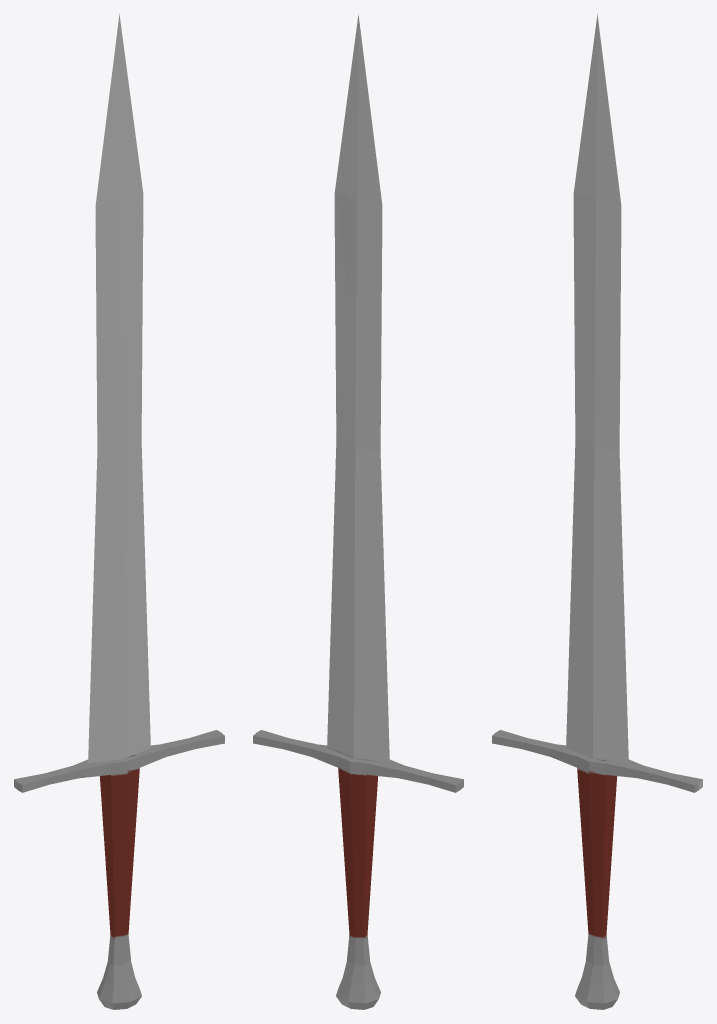
File: sword1.glb
3 renders of one model, left to right at view 1: azimuth 30°, elevation 25°; view 2: azimuth 150°, elevation 25°; view 3: azimuth 330°, elevation 25°, orthographic.
Visible parts, largest first — view 1: Sphere; view 2: Sphere; view 3: Sphere.
Boxes of the visible parts, left/top/right/bottom form: Sphere: left=14, top=14, right=224, bottom=1009; Sphere: left=253, top=14, right=463, bottom=1009; Sphere: left=492, top=14, right=702, bottom=1009.
Size of the model in its own units: 8.5 by 39.58 by 1.56.
1 material, 1 textured.
